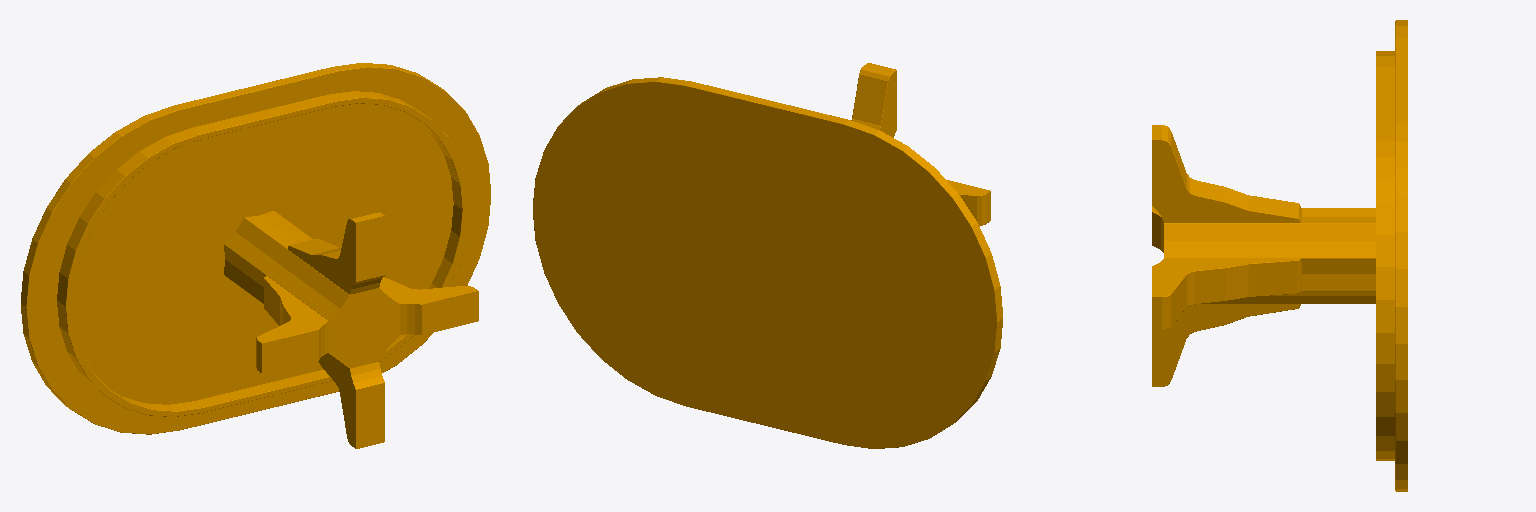
The robot description file, URDF, robot "none":
<robot name="none">
       <link name="none">
           <visual>
               <origin rpy="0 0 0" xyz="0 0 0" />
               <geometry>
                   <mesh filename="40.obj" />
               </geometry>
           </visual>
          <collision>
              <geometry>
                  <mesh filename="40.obj" />
              </geometry>
          </collision>

          <inertial>
            <mass value="0.0" />
            <inertia ixx="0.0" ixy="0.0" ixz="0.0" iyy="0.0" iyz="0.0" izz="0.0" />
          </inertial>
      </link>
  </robot>

--- What the picture shows (computed from the rendered views, not written in the file) ---
Views: 3 orthographic renders of the robot side by side, from view 1: azimuth 30°, elevation 25°; view 2: azimuth 150°, elevation 25°; view 3: azimuth 270°, elevation 25°.
Model none with 1 links and 0 joints (none), rooted at none, posed all joints at 0.
Visible links, largest first — view 1: none; view 2: none; view 3: none.
Boxes of the visible links, <box> form: none: <box>21,63,490,448</box>; none: <box>533,63,1002,448</box>; none: <box>1152,20,1407,491</box>.
Size in the robot's own frame: 1.76 by 0.7702 by 1.16 metres.
1 mesh visuals loaded from 1 distinct referenced files (1 OBJ).